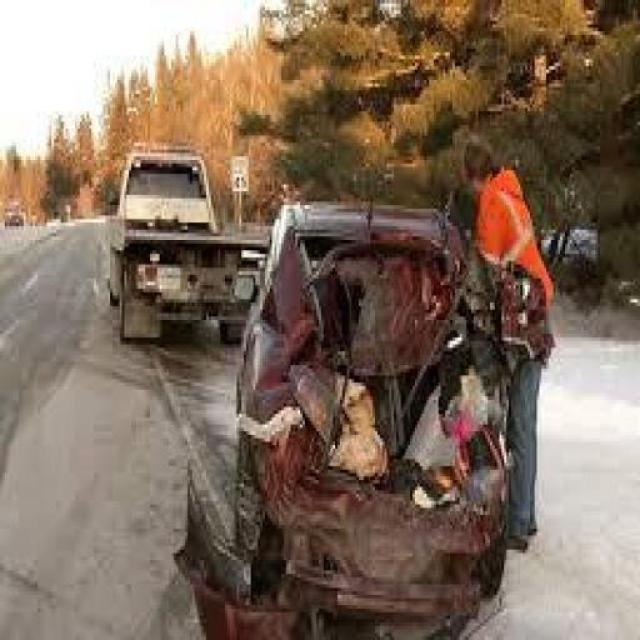crush: (177, 232, 512, 634)
